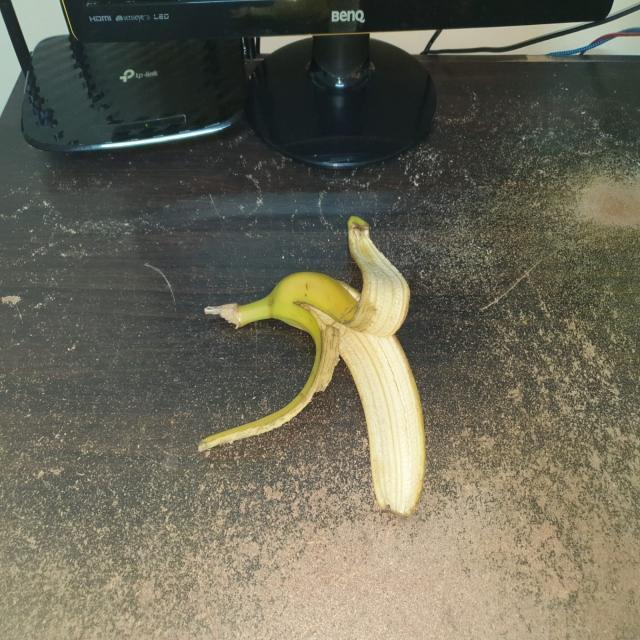banana-peel: (196, 214, 427, 517)
